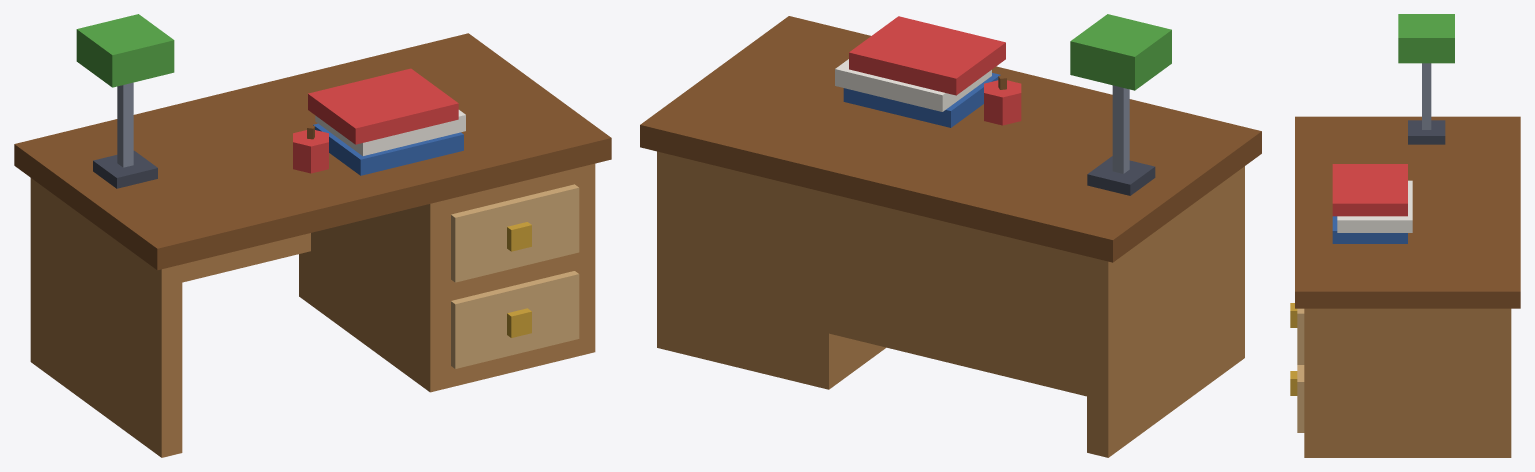
The model's file is teacher-desk.glb.
3 views of the same model, side by side, from view 1: azimuth 30°, elevation 25°; view 2: azimuth 150°, elevation 25°; view 3: azimuth 270°, elevation 25° (orthographic). The views are drawn at different scales.
Parts seen in each view (by area): view 1: teacher-desk; view 2: teacher-desk; view 3: teacher-desk.
Part boxes in pixels (<box>): teacher-desk: <box>14,14,611,457</box>; teacher-desk: <box>640,14,1261,457</box>; teacher-desk: <box>1290,14,1520,457</box>.
Bounding box in the file's own units: 0.88 × 0.66 × 0.49.
Materials: 1 (1 with a texture image).
